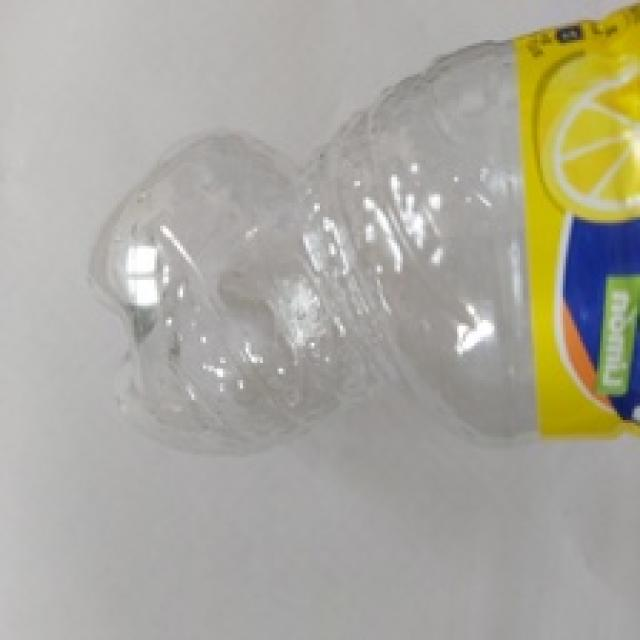plastic: (75, 11, 639, 439)
